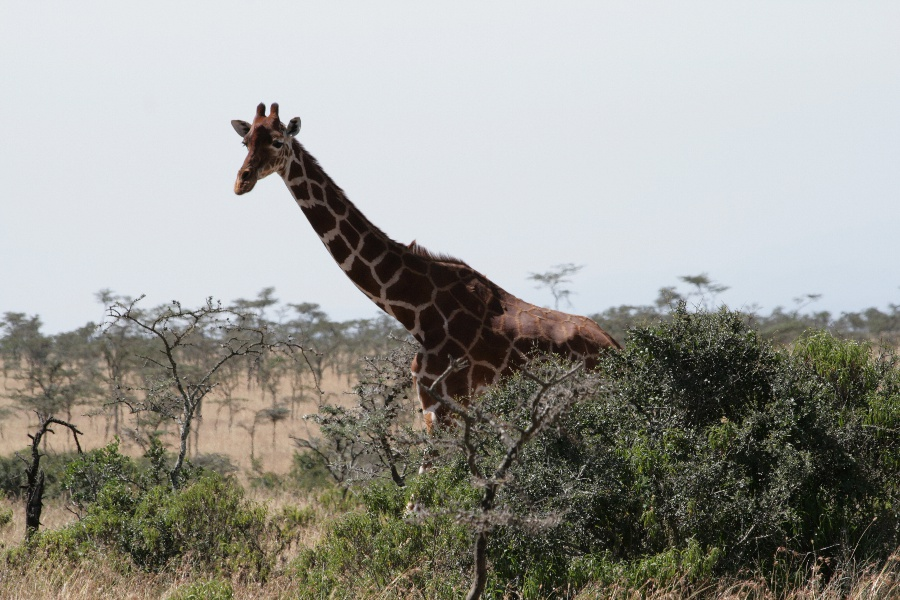giraffe: (220, 100, 638, 509)
